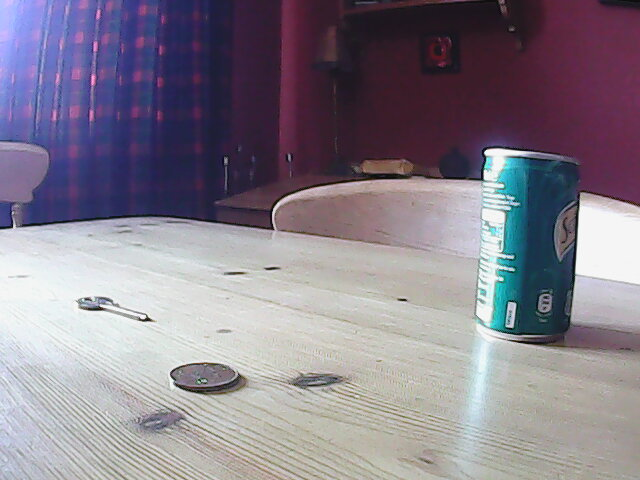Can: (474, 140, 578, 348)
Coin: (166, 359, 242, 392)
Key: (74, 292, 152, 325)
